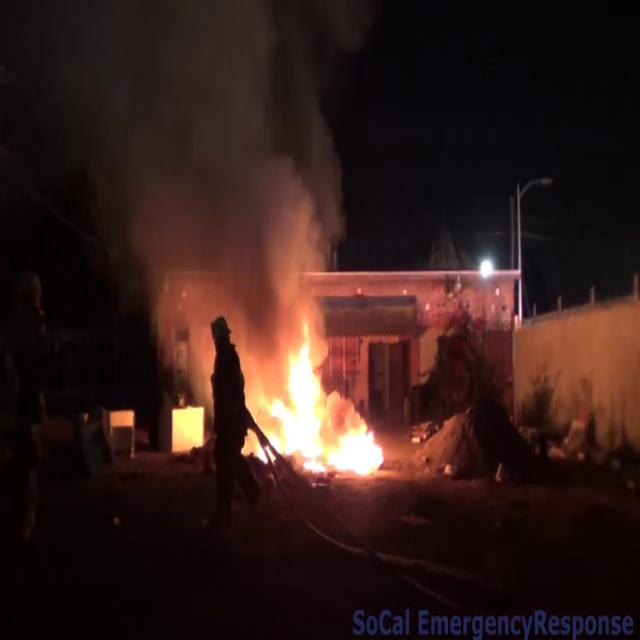Fire: (252, 314, 388, 478)
Smoke: (53, 1, 359, 348)
